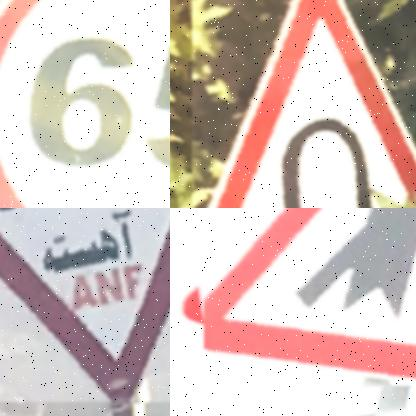Cross Roads: (205, 208, 416, 379)
Speed Limit -65 kmph-: (0, 0, 170, 208)
U-Turn: (213, 0, 416, 208)
